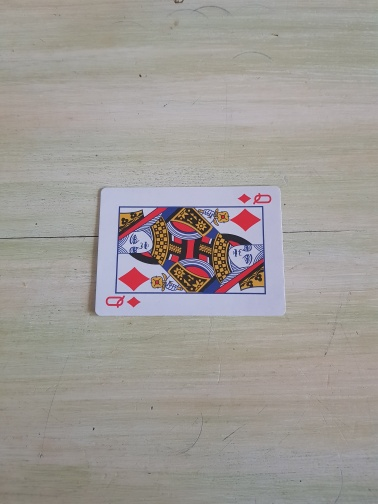queen: (93, 184, 288, 318)
